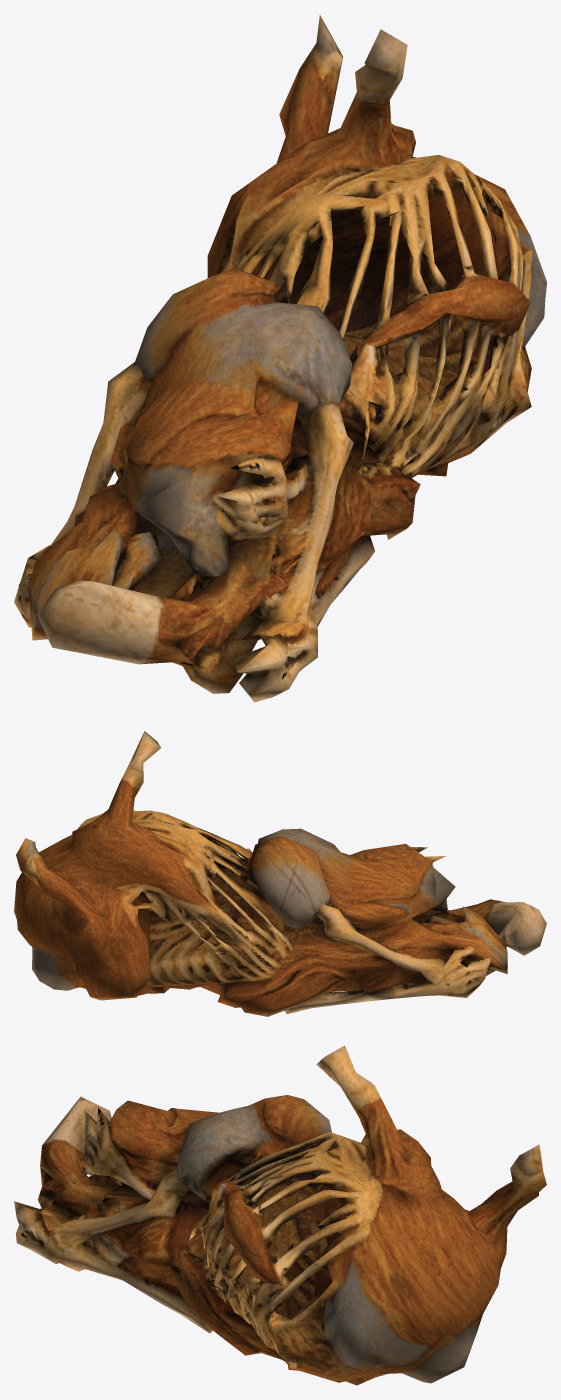
File: mm8_deco_carcass.glb
The picture shows the model from 3 angles, top to bottom: view 1: azimuth 30°, elevation 25°; view 2: azimuth 150°, elevation 25°; view 3: azimuth 270°, elevation 25°; orthographic projection. The views are drawn at different scales.
Visible parts, largest first — view 1: Carcass; view 2: Carcass; view 3: Carcass.
Boxes of the visible parts, x1,y1,x2,y2 form: Carcass: (14,15,546,702); Carcass: (14,731,546,1016); Carcass: (14,1045,546,1385).
Bounding box in the file's own units: 1.11 × 0.6781 × 1.
Materials: 1 (1 with a texture image).
